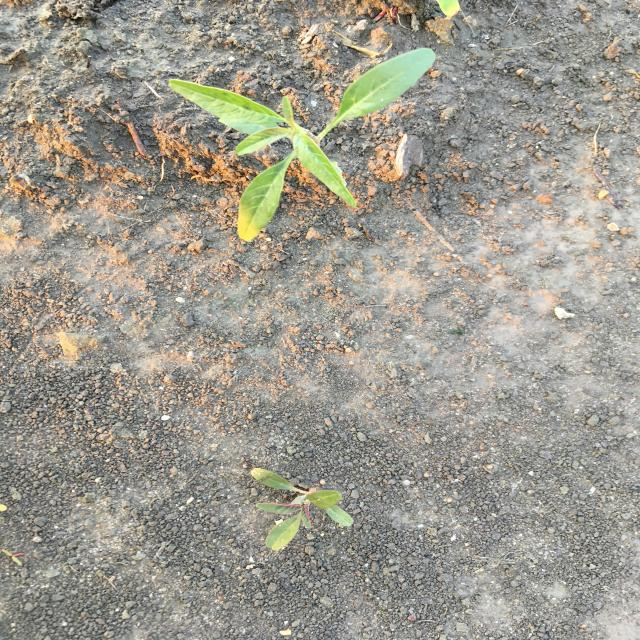Waterhemp: (167, 47, 439, 244), (245, 464, 358, 554)
